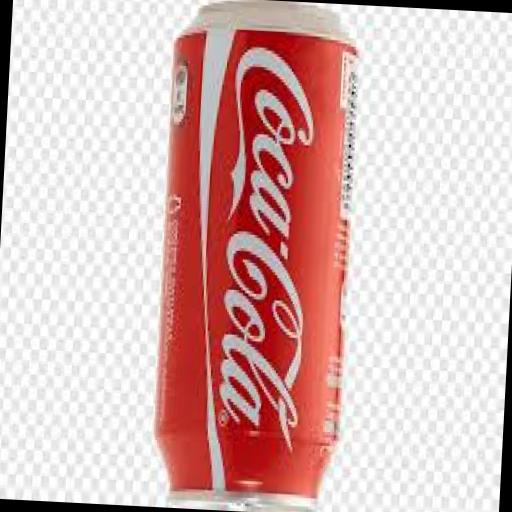Coca: (143, 0, 368, 512)
